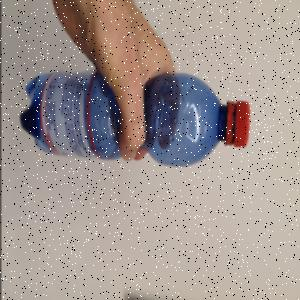Plastic-bottle: (19, 72, 252, 171)
